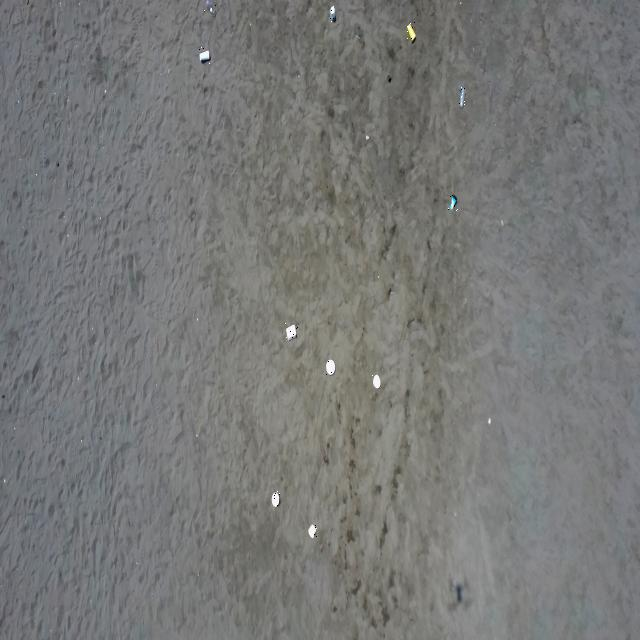take-away-containers: (285, 323, 298, 343), (325, 358, 337, 377), (372, 373, 382, 390), (308, 522, 317, 540), (271, 492, 280, 509)
takeaway-cup: (204, 0, 218, 20), (198, 47, 212, 66), (406, 22, 417, 44), (458, 86, 467, 110), (448, 194, 458, 212), (329, 5, 336, 23)
